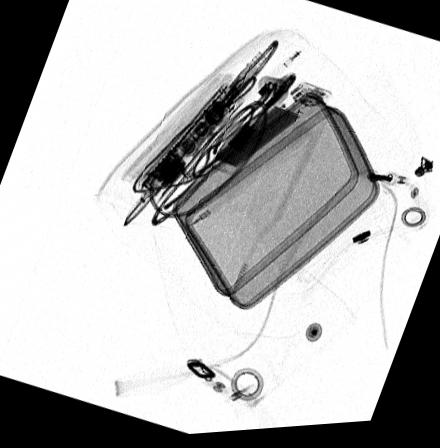Powerbank: (206, 84, 333, 179)
